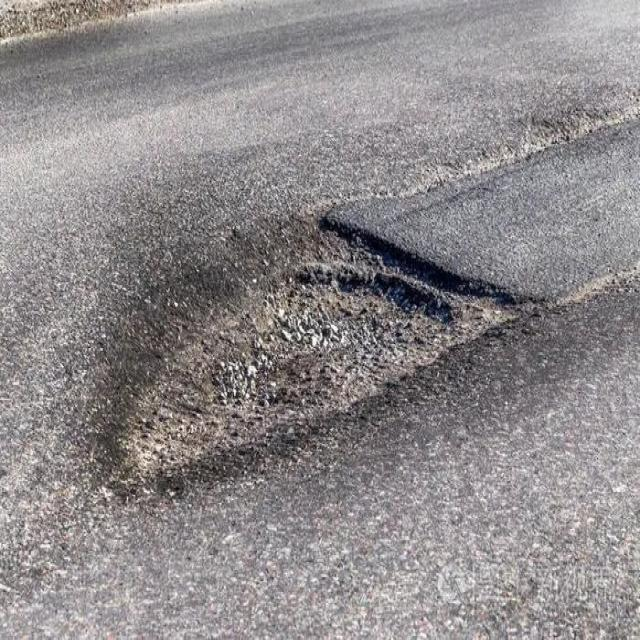Pothole: (105, 212, 531, 493)
